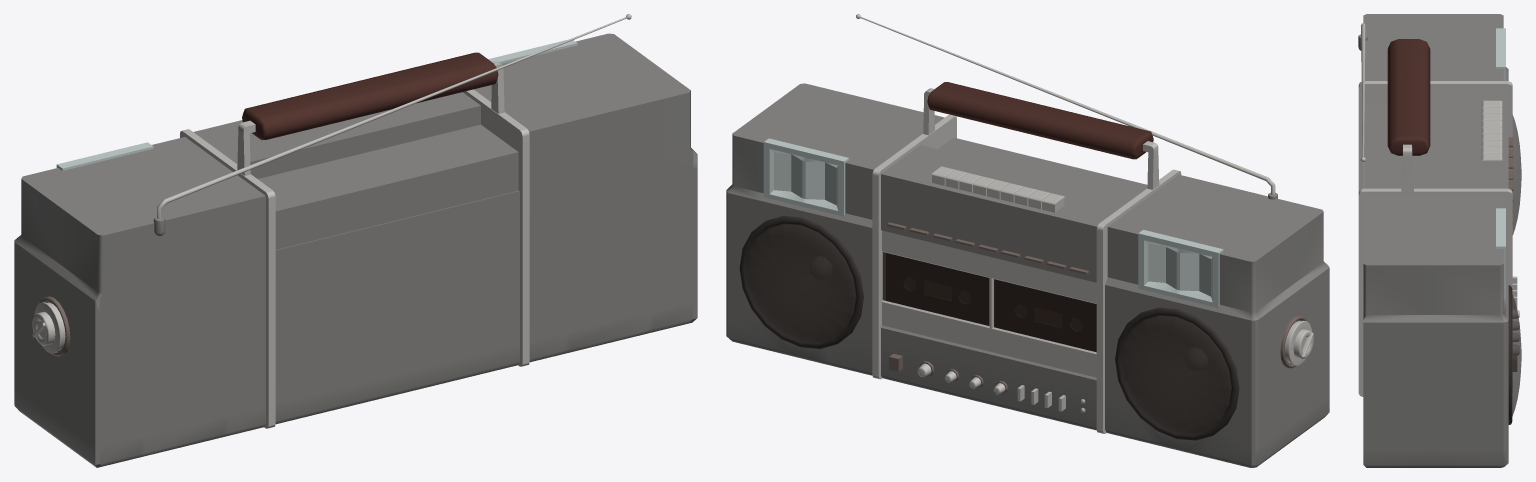
The model's file is cassette_radio_player.fbx.
The picture shows the model from 3 angles, left to right: view 1: azimuth 30°, elevation 25°; view 2: azimuth 150°, elevation 25°; view 3: azimuth 270°, elevation 25°; orthographic projection. The views are drawn at different scales.
Visible parts, largest first — view 1: cassette_radio_player_body; view 2: cassette_radio_player_body, speakernet_cassette; view 3: cassette_radio_player_body, speakernet_cassette.
Part boxes in pixels (bbox=[...]): cassette_radio_player_body: bbox=[14, 14, 697, 467]; cassette_radio_player_body: bbox=[726, 14, 1329, 467]; speakernet_cassette: bbox=[745, 223, 1231, 434]; cassette_radio_player_body: bbox=[1358, 14, 1519, 467]; speakernet_cassette: bbox=[1512, 115, 1521, 416].
Bounding box in the file's own units: 1.16 × 0.584 × 0.305.
